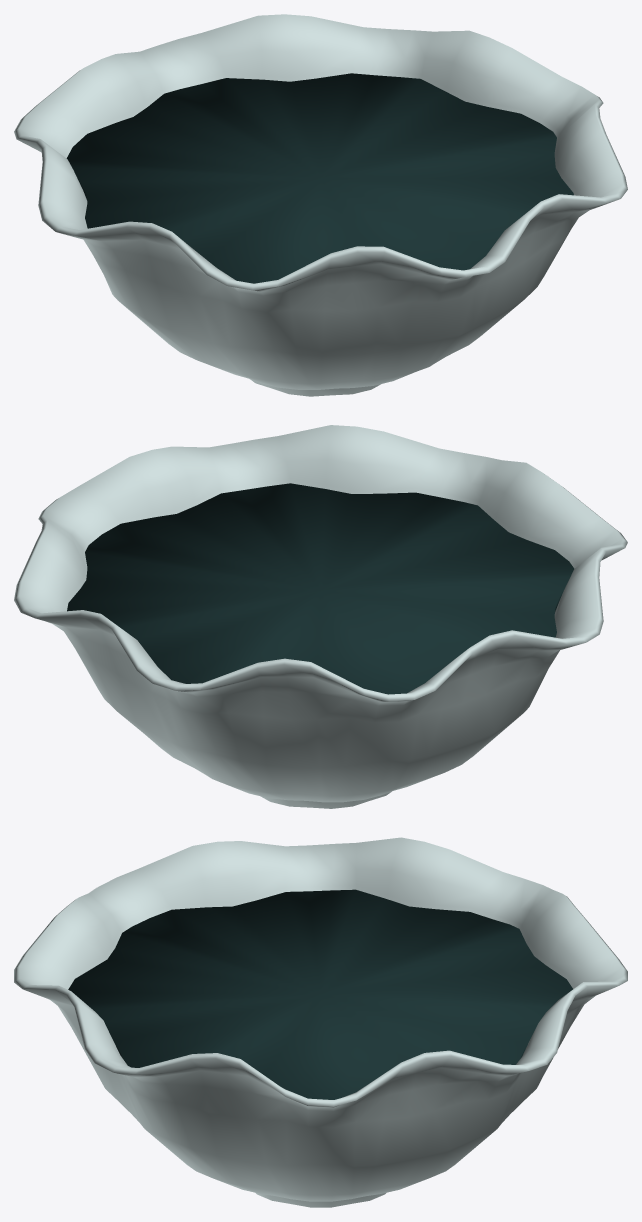
Rendered from 빙수그릇(엔딩).fbx.
The picture shows the model from 3 angles, top to bottom: view 1: azimuth 30°, elevation 25°; view 2: azimuth 150°, elevation 25°; view 3: azimuth 270°, elevation 25°; orthographic projection. The views are drawn at different scales.
Parts seen in each view (by area): view 1: 빙수바닥.001; view 2: 빙수바닥.001; view 3: 빙수바닥.001.
Boxes of the visible parts, left/top/right/bottom form: 빙수바닥.001: left=14, top=14, right=627, bottom=396; 빙수바닥.001: left=14, top=425, right=627, bottom=808; 빙수바닥.001: left=14, top=837, right=627, bottom=1207.
Size of the model in its own units: 1705 by 693 by 1705.
